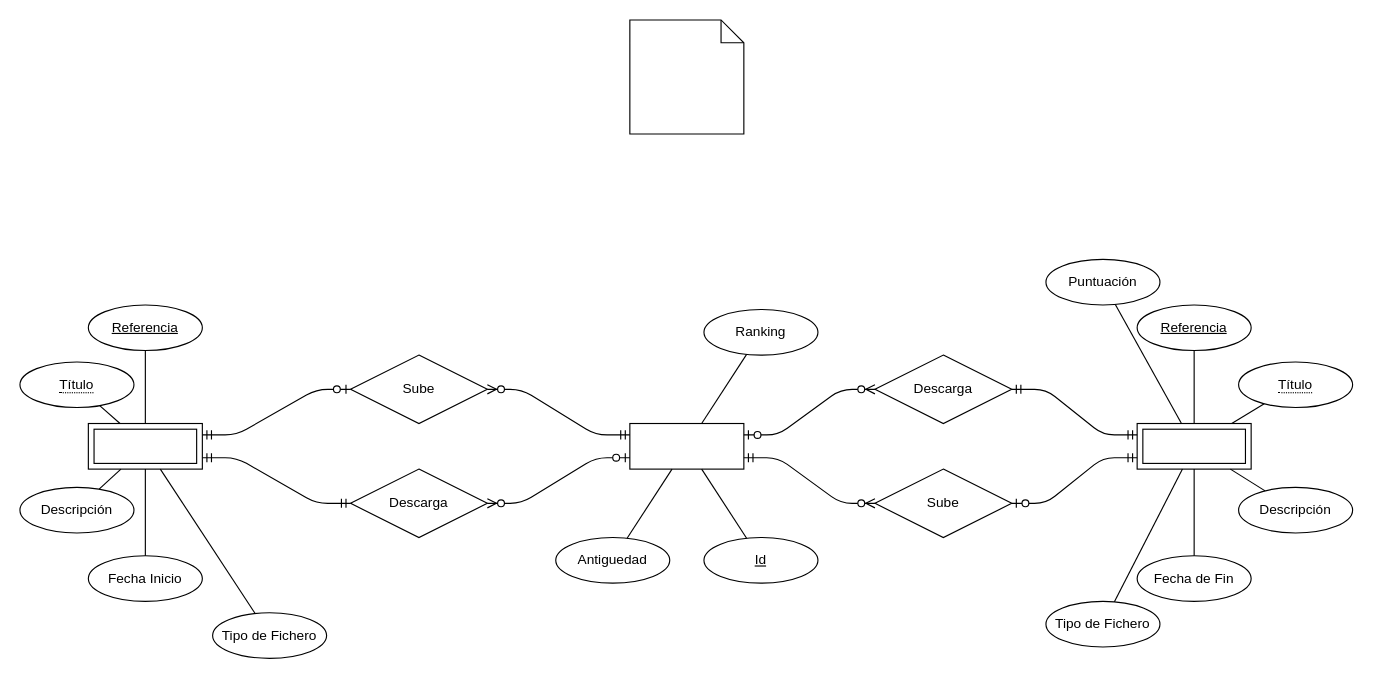
The diagram is 1373 pixels wide and 678 high, and some of its shapes have lost their labels. The centre of each missing label's shape, as x and y in pixels:
Fichero a Solucionar: the point at 144,445
Fichero Solucionado: the point at 1193,445
Proyecto Necesidades Digitales: the point at 686,76
Usuario Registrado: the point at 686,445
